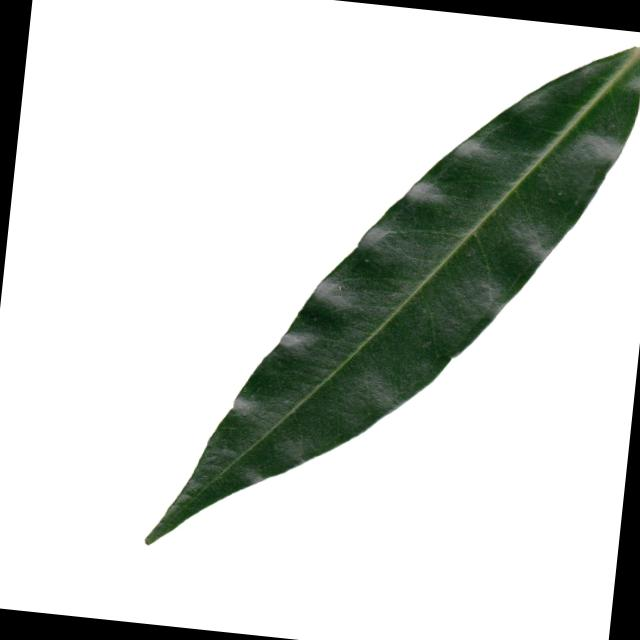Medicinal-Rose Apple: (145, 0, 640, 589)
